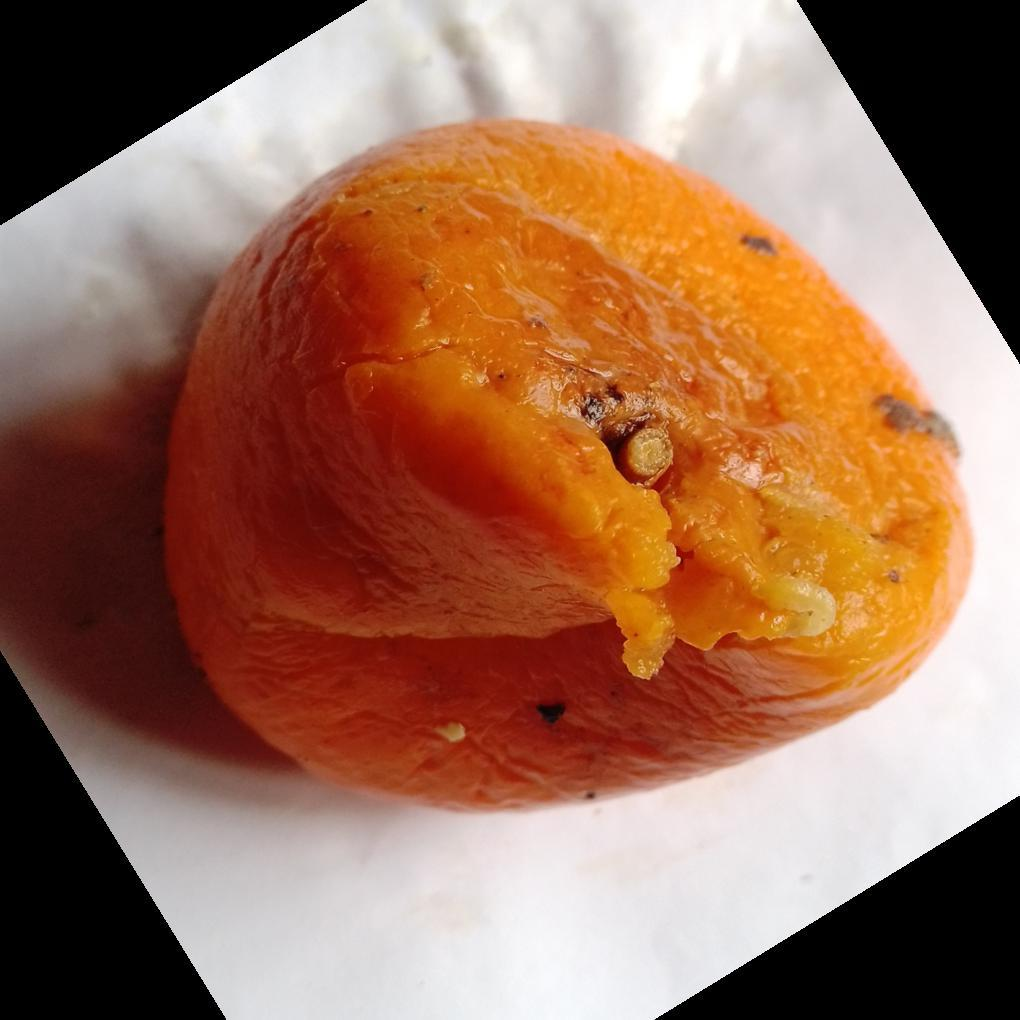FreshOrange: (160, 119, 974, 817)
